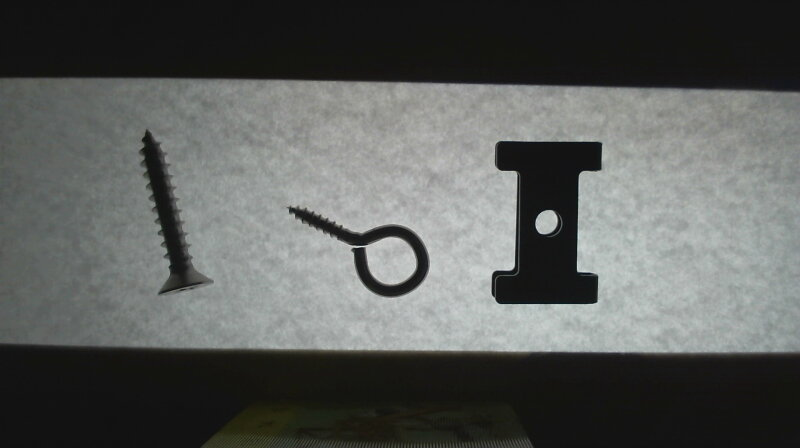O001: (284, 199, 431, 299)
O002: (489, 138, 606, 307)
S001: (135, 125, 218, 296)
